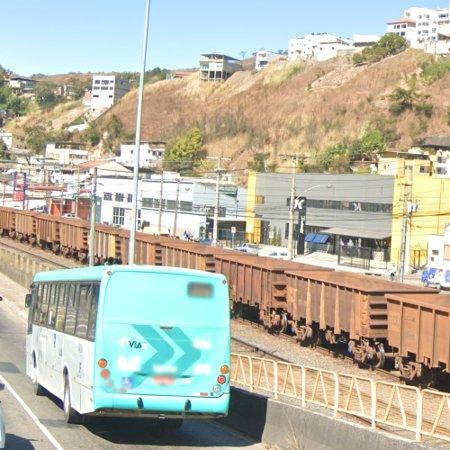buses: (26, 266, 231, 423)
